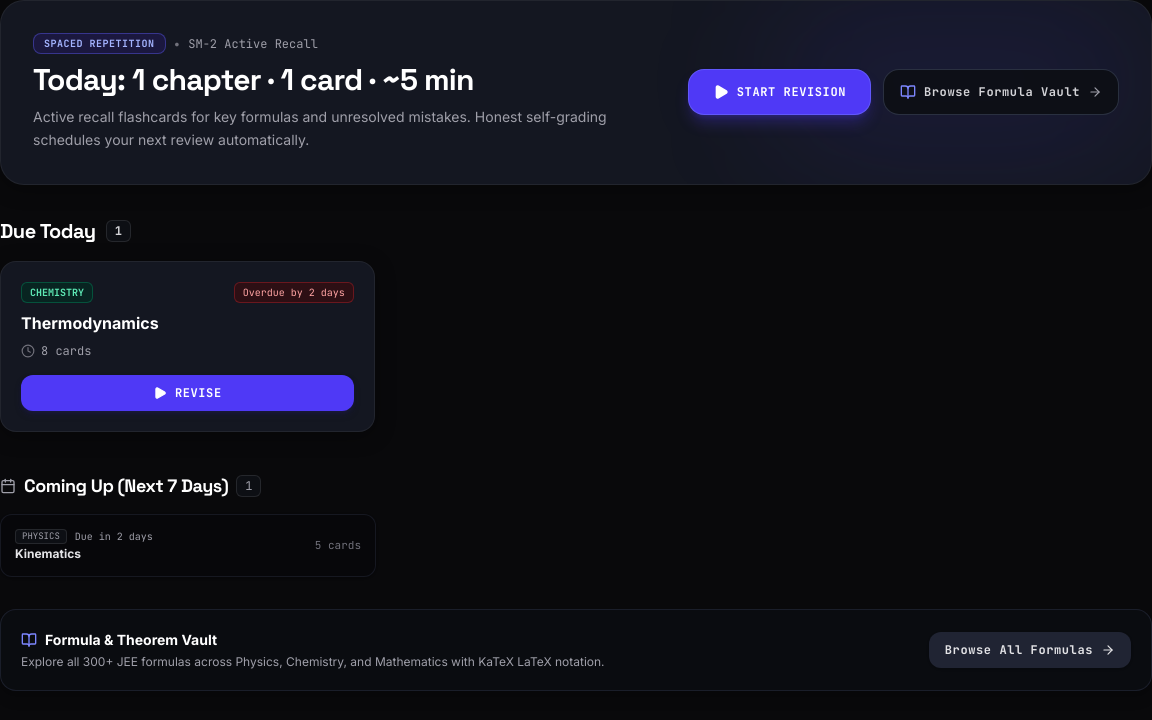
Test case: RevisionPage Overhauled View (Magnitude 5.1) › launches RevisionSession when clicking Start revision button
Click the button "Start revision": x=779, y=92 [688,69,871,115]
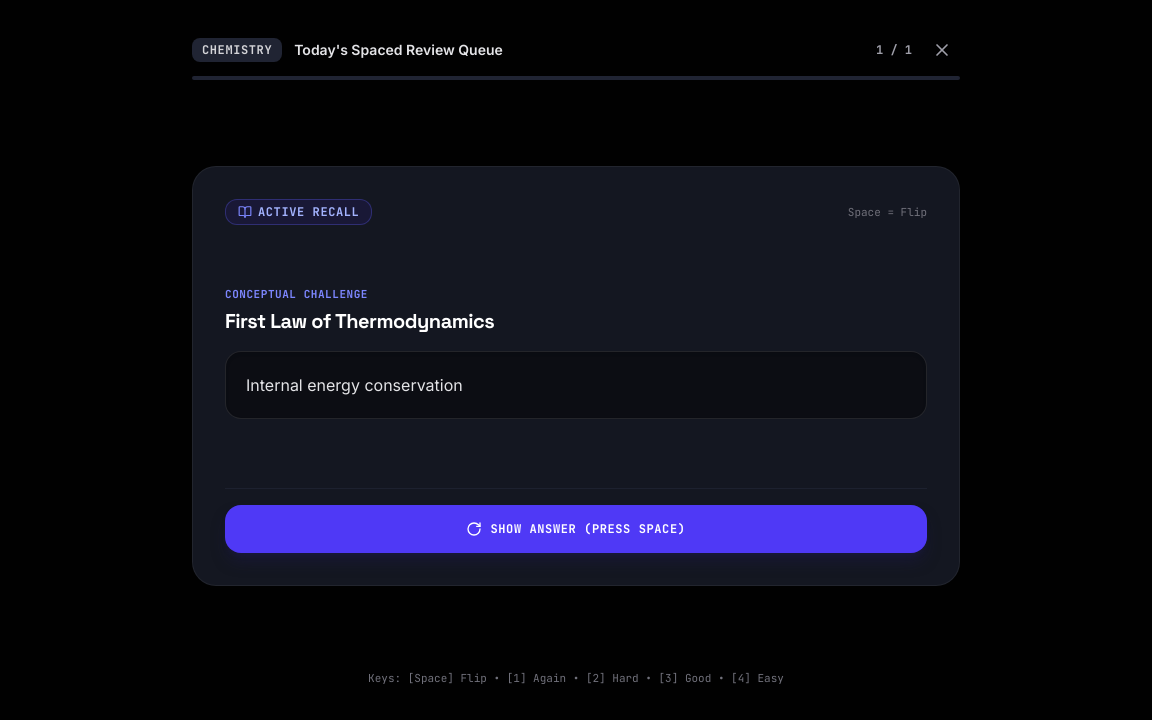
Expected: the heading "First Law of Thermodynamics" is shown, [225,308,494,334]
Expected: the text "Show Answer (Press Space)" is shown, [490,521,686,537]
